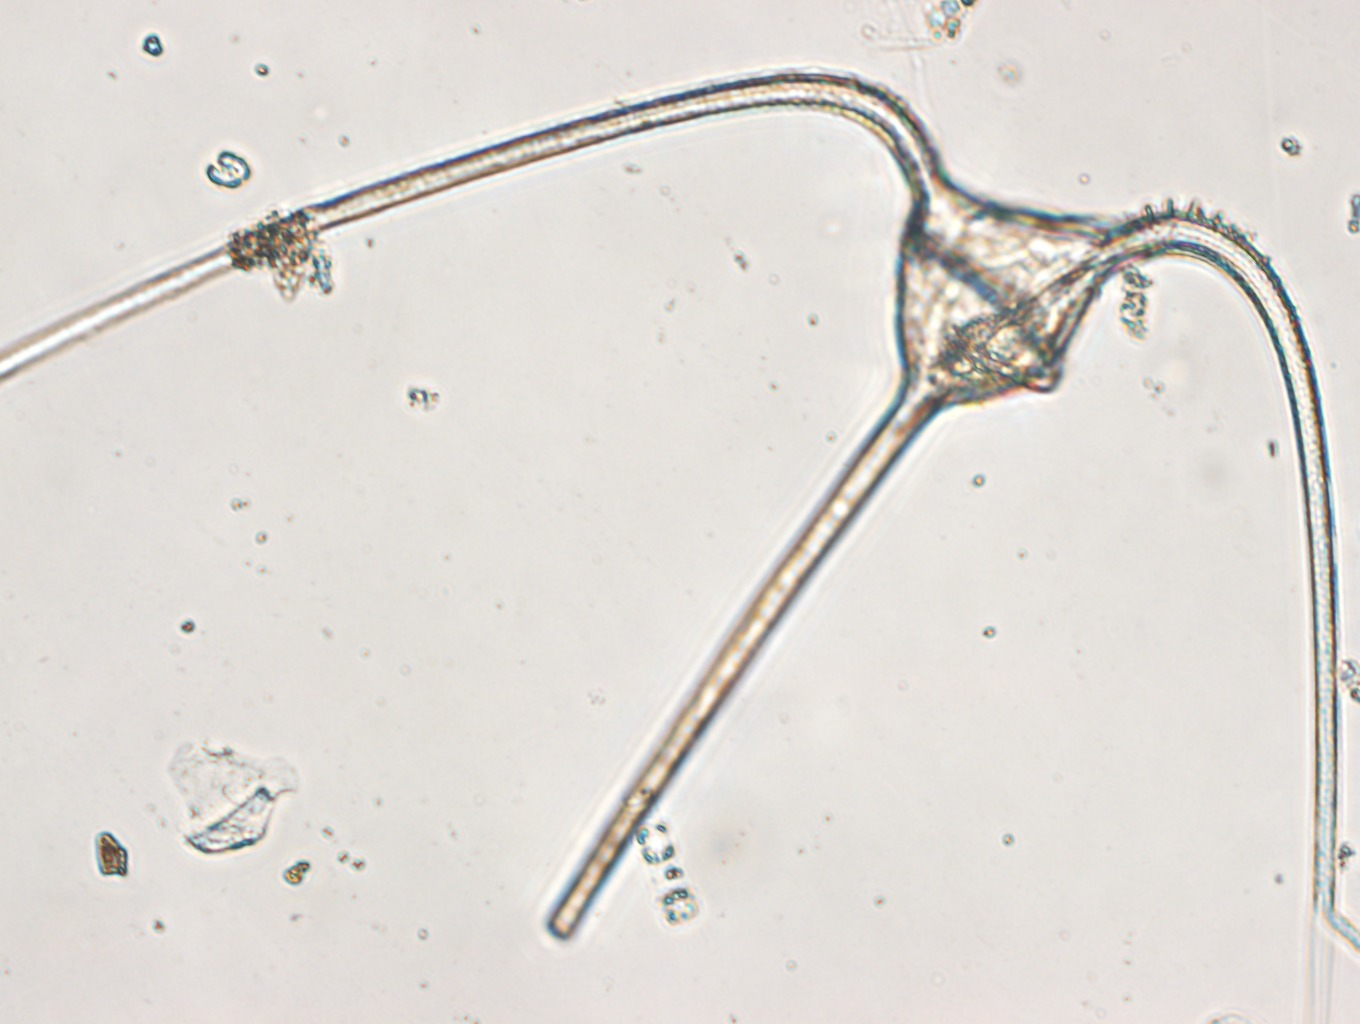ceratium trichoceros: (1, 68, 1342, 1024)
